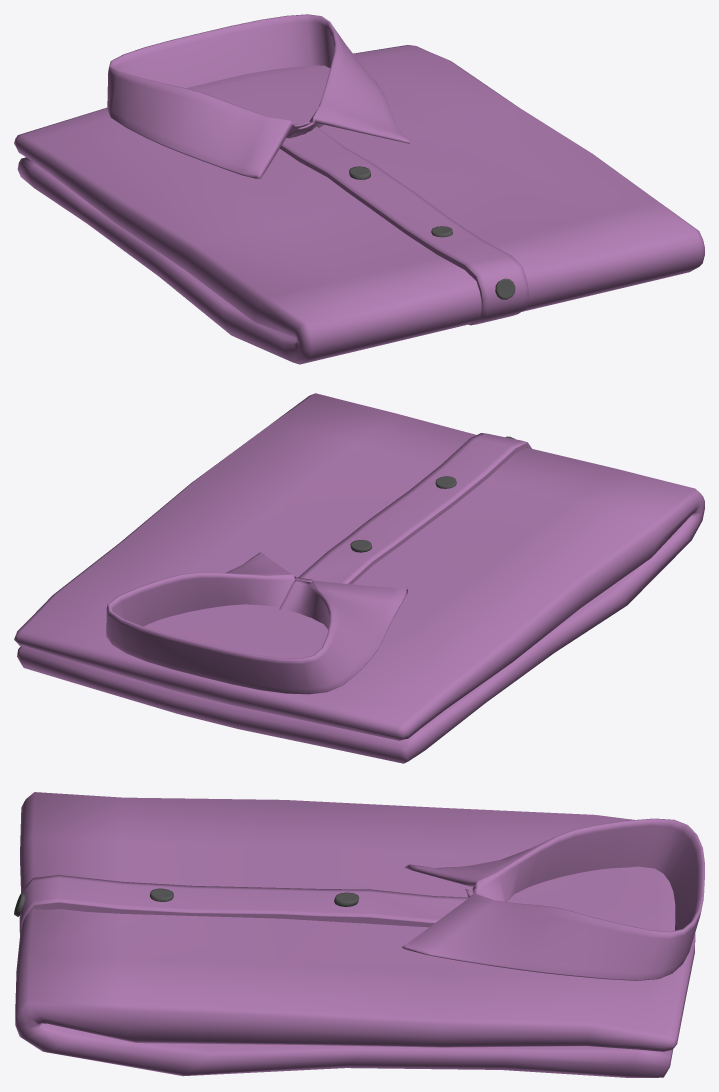
File: Folded_Shirt20.fbx
3 renders of one model, top to bottom at view 1: azimuth 30°, elevation 25°; view 2: azimuth 150°, elevation 25°; view 3: azimuth 270°, elevation 25°, orthographic. The views are drawn at different scales.
Visible parts, largest first — view 1: Folded_Shirt20; view 2: Folded_Shirt20; view 3: Folded_Shirt20.
Part boxes in pixels (bbox=[...]): Folded_Shirt20: bbox=[14, 14, 704, 364]; Folded_Shirt20: bbox=[14, 393, 704, 763]; Folded_Shirt20: bbox=[14, 792, 704, 1077].
Bounding box in the file's own units: 24.85 × 5.51 × 33.24.
